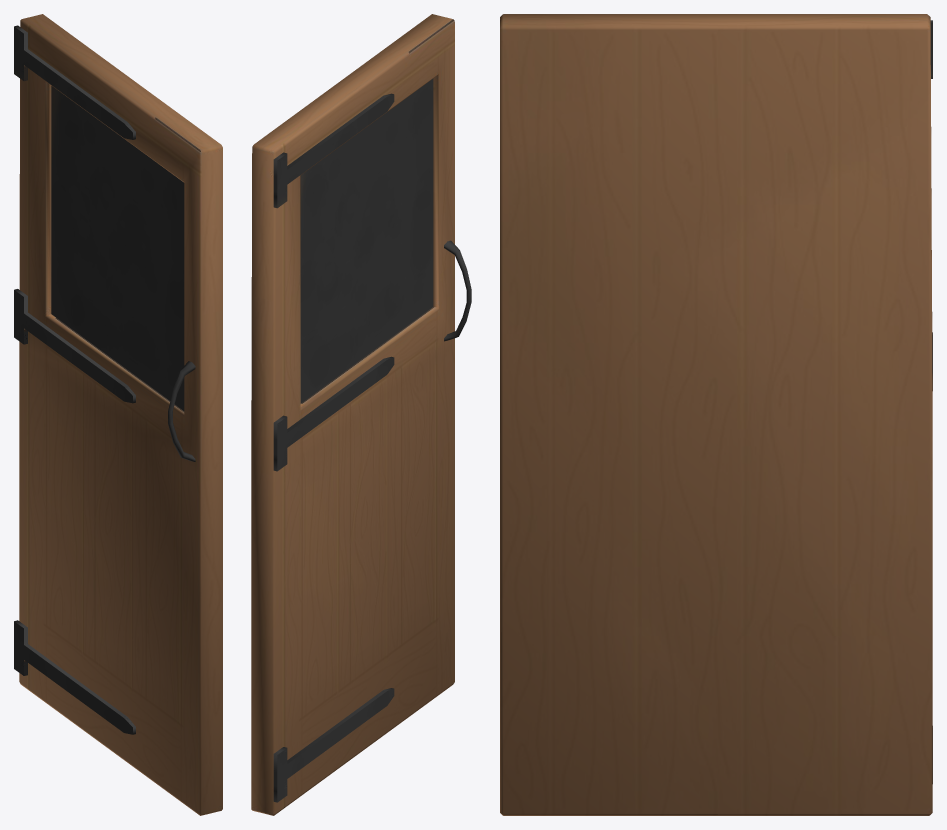
The model's file is WorkshopDoor.fbx.
3 views of the same model, side by side, from view 1: azimuth 30°, elevation 25°; view 2: azimuth 150°, elevation 25°; view 3: azimuth 270°, elevation 25° (orthographic). The views are drawn at different scales.
Visible parts, largest first — view 1: WorkshopDoor, MetalParts, Handle.001; view 2: WorkshopDoor, MetalParts, Handle.001; view 3: WorkshopDoor.
Boxes of the visible parts, x1=… form: WorkshopDoor: x1=19, y1=14, x2=222, y2=815; MetalParts: x1=14, y1=25, x2=135, y2=734; Handle.001: x1=168, y1=361, x2=195, y2=461; WorkshopDoor: x1=251, y1=14, x2=454, y2=815; MetalParts: x1=273, y1=93, x2=394, y2=802; Handle.001: x1=444, y1=240, x2=471, y2=341; WorkshopDoor: x1=500, y1=14, x2=932, y2=815.
Bounding box in the file's own units: 0.1473 × 1.97 × 0.9773.
